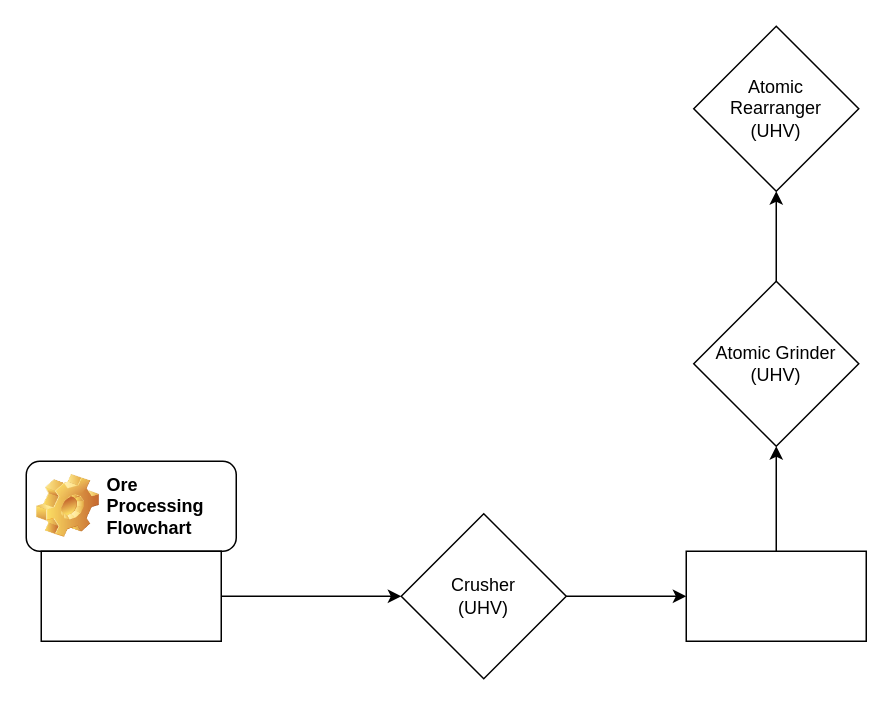
The diagram is 893 pixels wide and 705 high, and some of its shapes have lost their labels. Each missing label, with the centre of its shape:
"1x any ore" belongs at pixel 130 595.
"1x Crushed ore" belongs at pixel 775 595.
